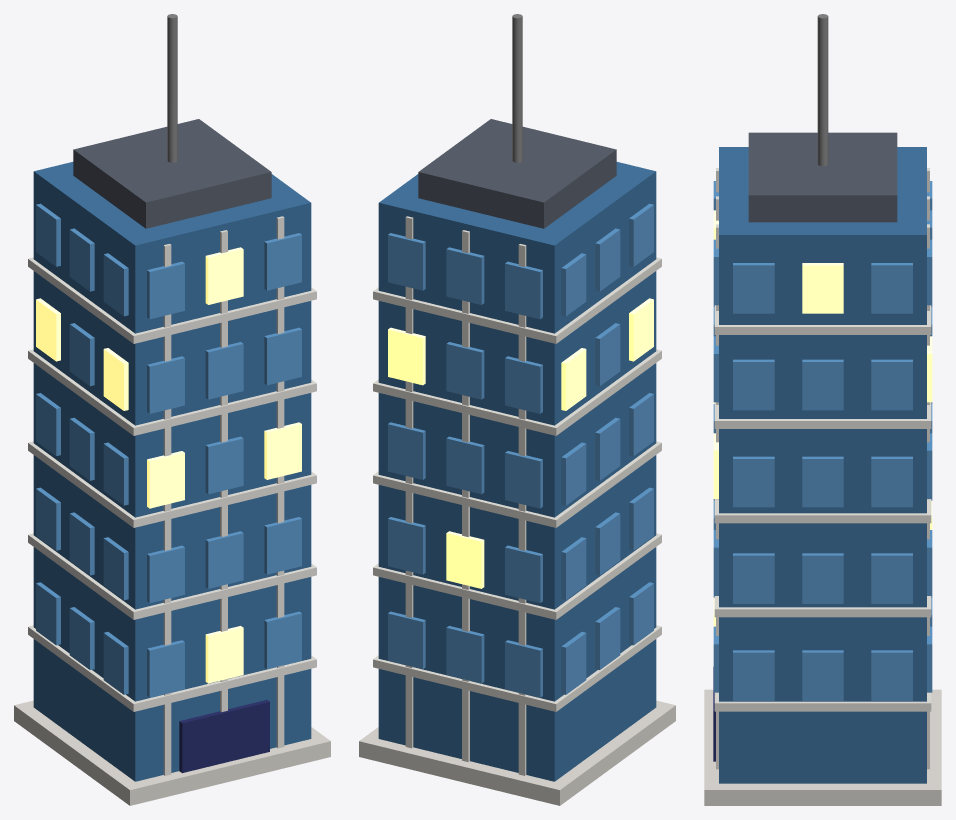
The model's file is 05_Blue_Tower.glb.
3 renders of one model, left to right at view 1: azimuth 30°, elevation 25°; view 2: azimuth 150°, elevation 25°; view 3: azimuth 270°, elevation 25°, orthographic. The views are drawn at different scales.
Visible parts, largest first — view 1: body, windows, floor_band (×5), roof_cap, plinth, mullion (×3), door, antenna; view 2: body, windows, floor_band (×5), roof_cap, plinth, mullion (×3), antenna; view 3: body, windows, roof_cap, floor_band (×5), plinth, antenna, mullion.
Part boxes in pixels (x1=…): body: x1=33, y1=162, x2=311, y2=781; windows: x1=36, y1=203, x2=301, y2=697; floor_band (×5): x1=28, y1=257, x2=316, y2=711; roof_cap: x1=73, y1=119, x2=271, y2=228; plinth: x1=14, y1=700, x2=330, y2=805; mullion (×3): x1=163, y1=216, x2=284, y2=775; door: x1=179, y1=700, x2=269, y2=773; antenna: x1=167, y1=14, x2=177, y2=162; body: x1=378, y1=162, x2=656, y2=781; windows: x1=388, y1=203, x2=653, y2=697; floor_band (×5): x1=373, y1=257, x2=661, y2=711; roof_cap: x1=418, y1=119, x2=616, y2=228; plinth: x1=359, y1=700, x2=675, y2=805; mullion (×3): x1=405, y1=216, x2=526, y2=775; antenna: x1=512, y1=14, x2=522, y2=162; body: x1=719, y1=147, x2=926, y2=783; windows: x1=713, y1=181, x2=932, y2=700; roof_cap: x1=748, y1=132, x2=897, y2=222; floor_band (×5): x1=714, y1=305, x2=931, y2=711; plinth: x1=704, y1=689, x2=941, y2=805; antenna: x1=817, y1=14, x2=828, y2=166; mullion: x1=716, y1=224, x2=929, y2=769.
Bounding box in the file's own units: 1.6 × 5.5 × 1.6.
